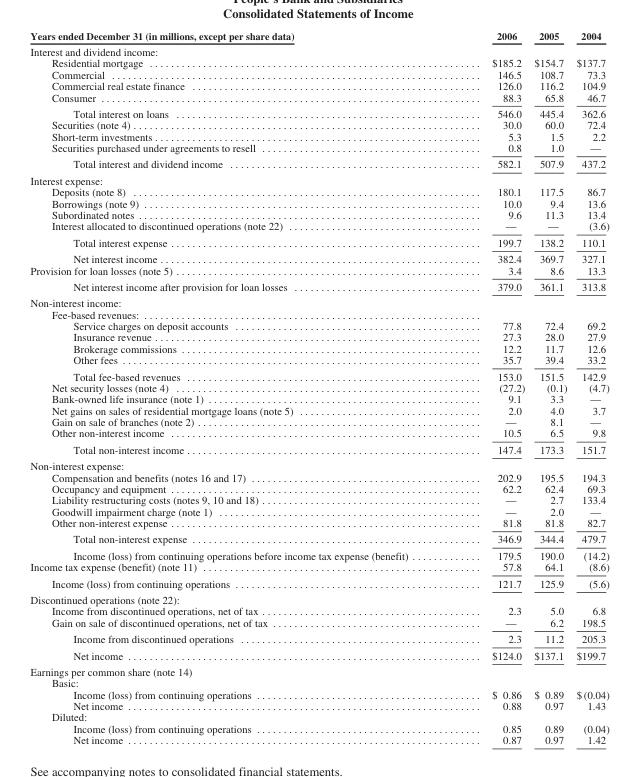table: (29, 29, 608, 745)
table column: (29, 29, 449, 745), (449, 29, 528, 745), (528, 29, 571, 745), (571, 29, 608, 745)
table column header: (29, 29, 608, 43)
table projected row header: (29, 43, 608, 57), (29, 171, 608, 185), (29, 294, 608, 308), (29, 457, 608, 471), (29, 591, 608, 605), (29, 663, 608, 677), (29, 308, 608, 319), (29, 677, 608, 688), (29, 711, 608, 722)
table row: (29, 233, 608, 250), (29, 440, 608, 457), (29, 574, 608, 591), (29, 646, 608, 663), (29, 155, 608, 171), (29, 278, 608, 294), (29, 530, 608, 546), (29, 630, 608, 646), (29, 29, 608, 43), (29, 43, 608, 57), (29, 91, 608, 105), (29, 141, 608, 155), (29, 171, 608, 185), (29, 219, 608, 233), (29, 250, 608, 264), (29, 264, 608, 278), (29, 294, 608, 308), (29, 353, 608, 367), (29, 367, 608, 381), (29, 457, 608, 471), (29, 516, 608, 530), (29, 546, 608, 560), (29, 560, 608, 574), (29, 591, 608, 605), (29, 616, 608, 630), (29, 663, 608, 677), (29, 105, 608, 118), (29, 427, 608, 440), (29, 79, 608, 91), (29, 118, 608, 130), (29, 185, 608, 197), (29, 319, 608, 331), (29, 392, 608, 404), (29, 415, 608, 427), (29, 493, 608, 505), (29, 699, 608, 711), (29, 733, 608, 745), (29, 57, 608, 68), (29, 68, 608, 79), (29, 130, 608, 141), (29, 197, 608, 208), (29, 208, 608, 219), (29, 308, 608, 319), (29, 331, 608, 342), (29, 342, 608, 353), (29, 381, 608, 392), (29, 404, 608, 415), (29, 471, 608, 482), (29, 482, 608, 493), (29, 505, 608, 516), (29, 605, 608, 616), (29, 677, 608, 688), (29, 688, 608, 699), (29, 711, 608, 722), (29, 722, 608, 733)
